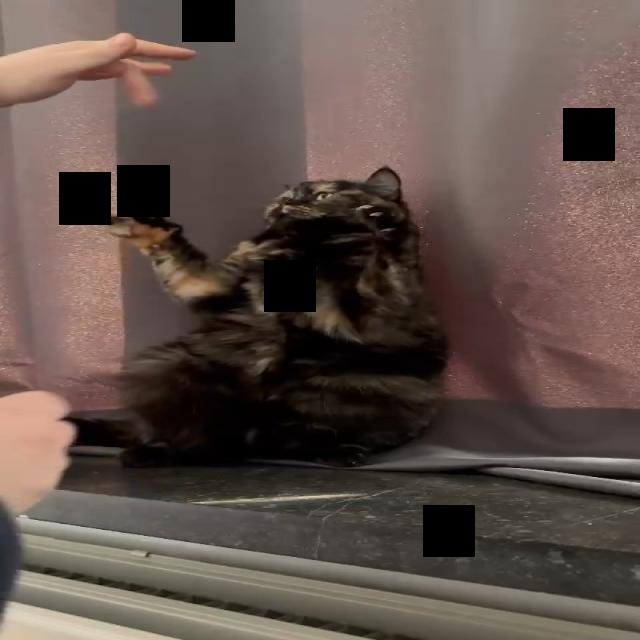authorized: (60, 164, 451, 468)
